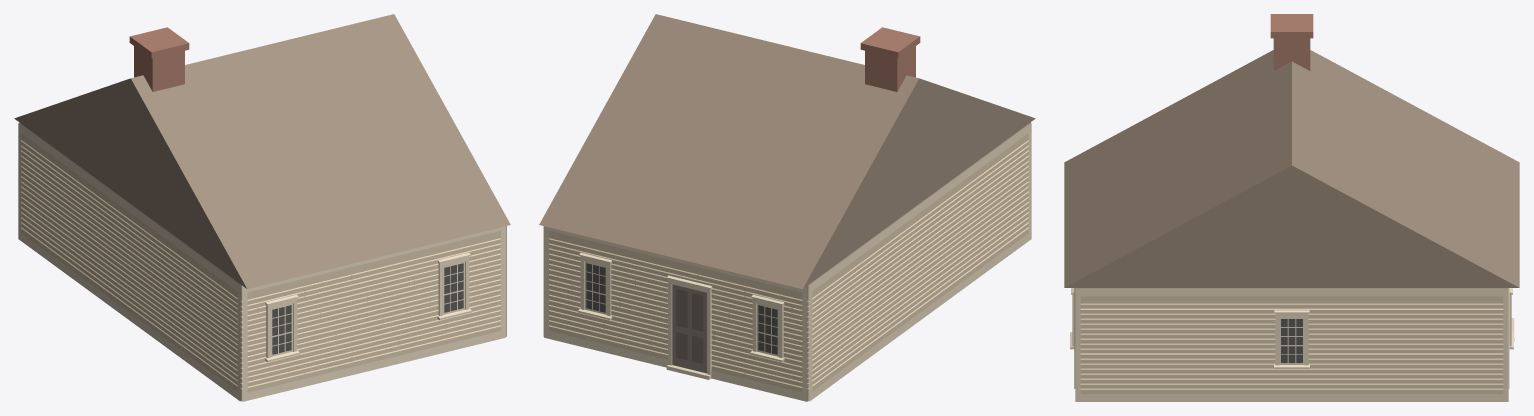
Rendered from recon_1835_blk_school_section_tier_95_d5_02__inferred_1835.glb.
3 renders of one model, left to right at view 1: azimuth 30°, elevation 25°; view 2: azimuth 150°, elevation 25°; view 3: azimuth 270°, elevation 25°, orthographic. The views are drawn at different scales.
Parts seen in each view (by area): view 1: recon_1835_blk_school_section_tier_95_d5_02__inferred_1835; view 2: recon_1835_blk_school_section_tier_95_d5_02__inferred_1835; view 3: recon_1835_blk_school_section_tier_95_d5_02__inferred_1835.
Part boxes in pixels (box(x1,y1,x2,y2)): recon_1835_blk_school_section_tier_95_d5_02__inferred_1835: box(14, 14, 510, 401); recon_1835_blk_school_section_tier_95_d5_02__inferred_1835: box(539, 14, 1035, 401); recon_1835_blk_school_section_tier_95_d5_02__inferred_1835: box(1064, 14, 1519, 401).
Bounding box in the file's own units: 7 × 6.78 × 10.49.
